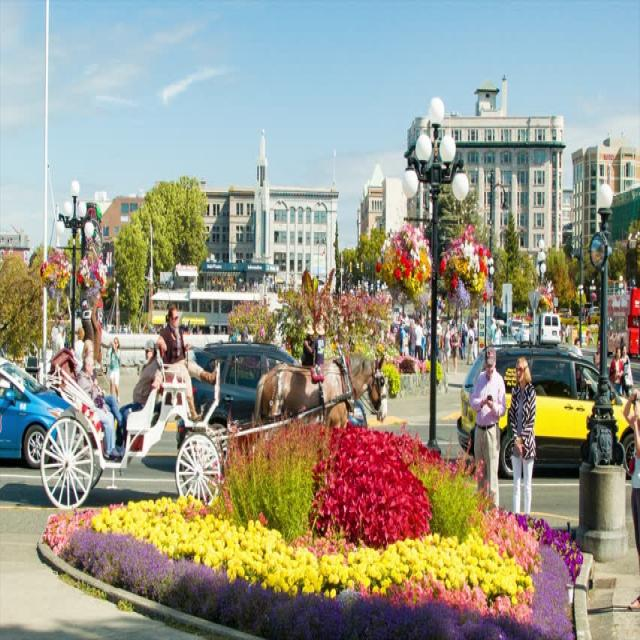body: (158, 305, 217, 424), (470, 344, 508, 520), (114, 338, 163, 458), (76, 354, 123, 462), (509, 356, 537, 512), (79, 339, 124, 429), (508, 303, 594, 347), (624, 390, 640, 610), (156, 272, 294, 295), (232, 319, 301, 345), (48, 310, 71, 370), (303, 322, 327, 374), (105, 336, 121, 405), (104, 316, 164, 333), (620, 344, 634, 399), (184, 318, 229, 334), (608, 345, 622, 395), (74, 325, 86, 372), (574, 367, 590, 401), (441, 320, 451, 373), (450, 324, 460, 372), (407, 319, 416, 369), (396, 319, 406, 356), (415, 318, 423, 362), (492, 321, 503, 352), (302, 334, 314, 362), (466, 323, 474, 365), (592, 339, 602, 372), (424, 320, 431, 364), (460, 324, 466, 361), (434, 321, 439, 363)
